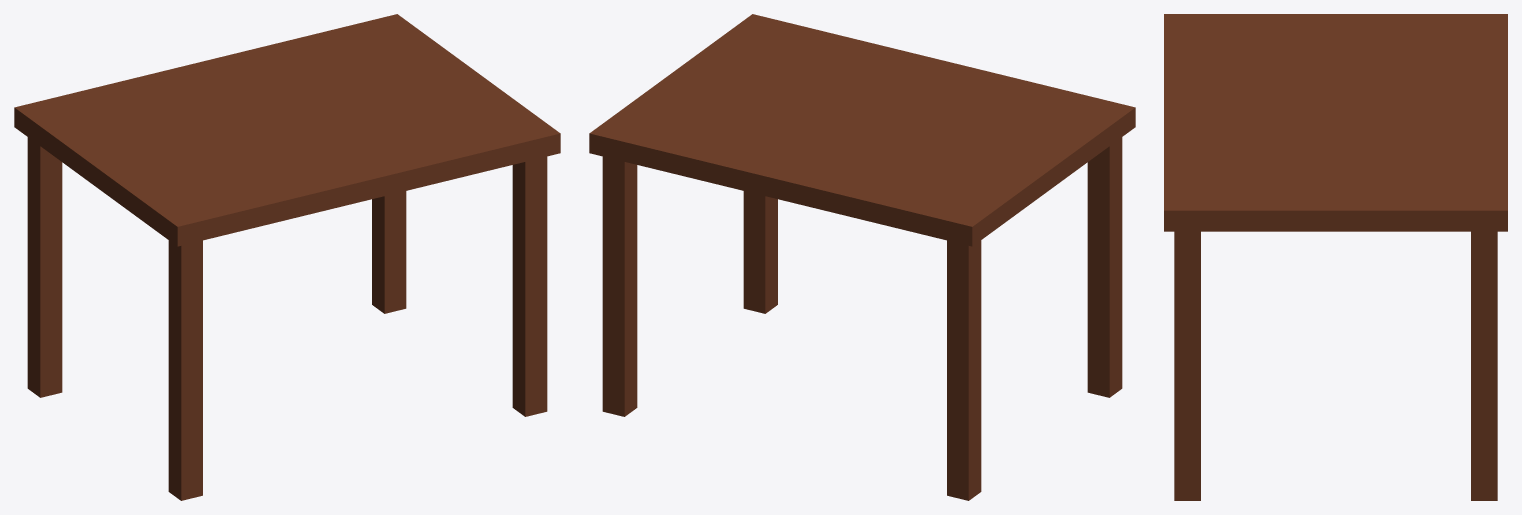
The model's file is table.obj.
3 views of the same model, side by side, from view 1: azimuth 30°, elevation 25°; view 2: azimuth 150°, elevation 25°; view 3: azimuth 270°, elevation 25° (orthographic). The views are drawn at different scales.
Parts seen in each view (by area): view 1: Cube; view 2: Cube; view 3: Cube.
Boxes of the visible parts, x1,y1,x2,y2 form: Cube: (14,14,560,500); Cube: (589,14,1135,500); Cube: (1164,14,1507,500).
Bounding box in the file's own units: 2.71 × 1.89 × 2.
